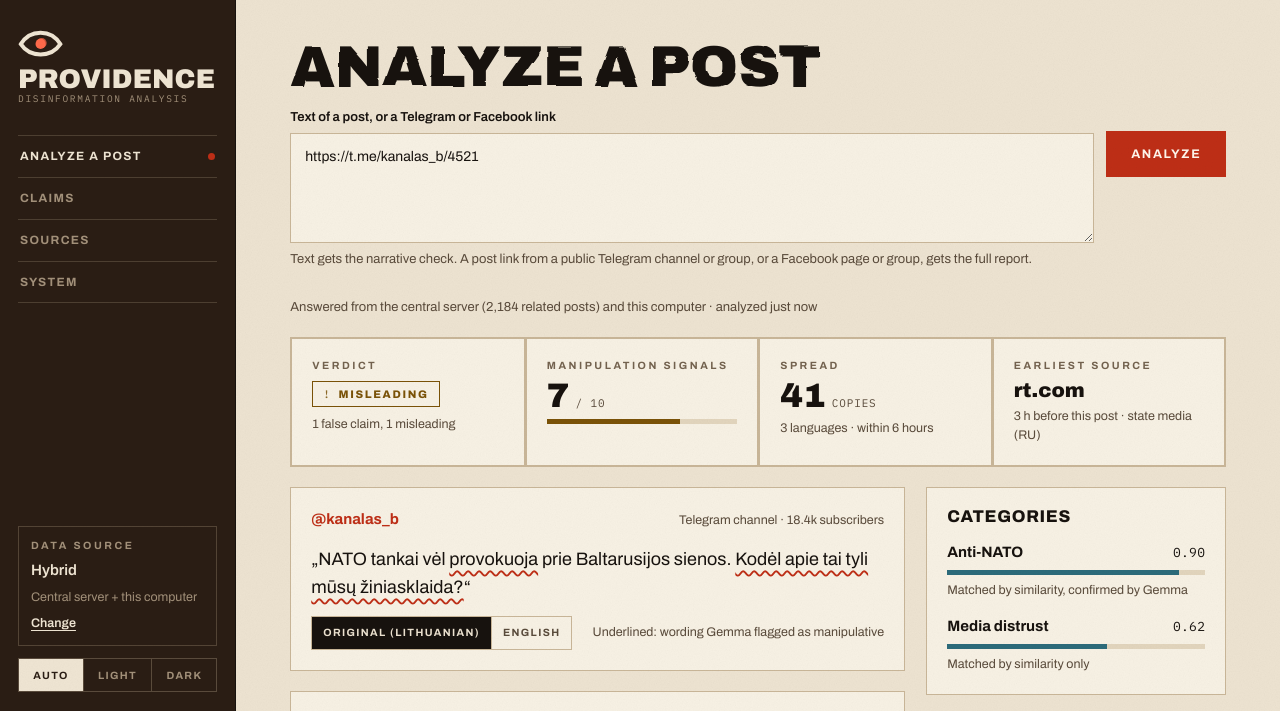
Scenario: Analyze a link (demo data) › switches between the original and the English translation; flagged words are marked
Click the button "English" at (531, 632), box [491,616,572,648]
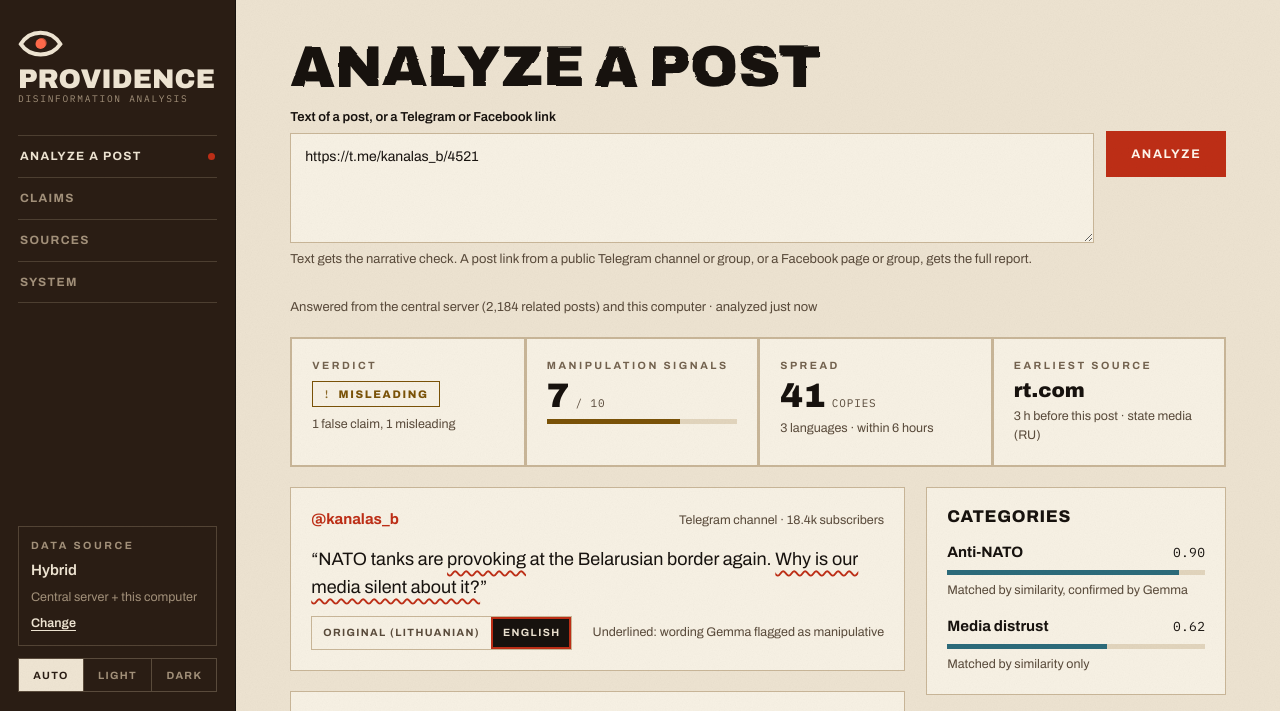
Now the element with test id "post-text" has attribute lang="en", box [311,546,884,602]
Now the button "English" is pressed, box [491,616,572,648]
Click the button "Original (Lithuanian)" at (402, 632), box [312,616,491,648]
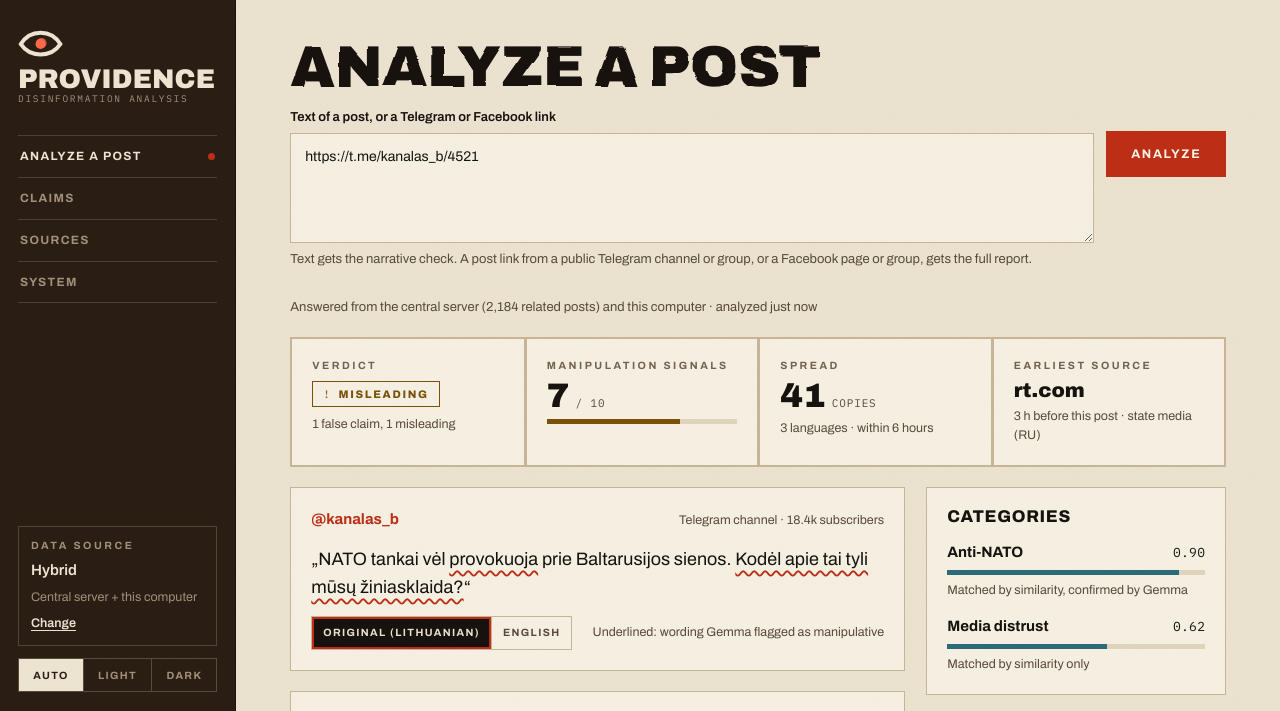
Now the element with test id "post-text" shows "NATO tankai", box [311,549,449,569]
